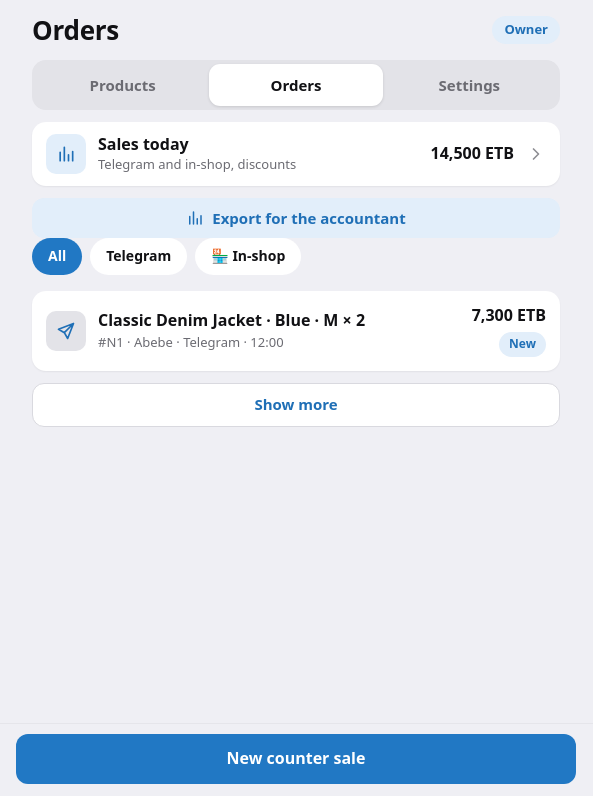
Test: Orders › loads the next page of orders
The width and height of the screenshot is (593, 796).
What coordinates should you click on to do the following:
click the button "Show more"
I would click on:
 (296, 405)
Its box is [32,383,560,427].
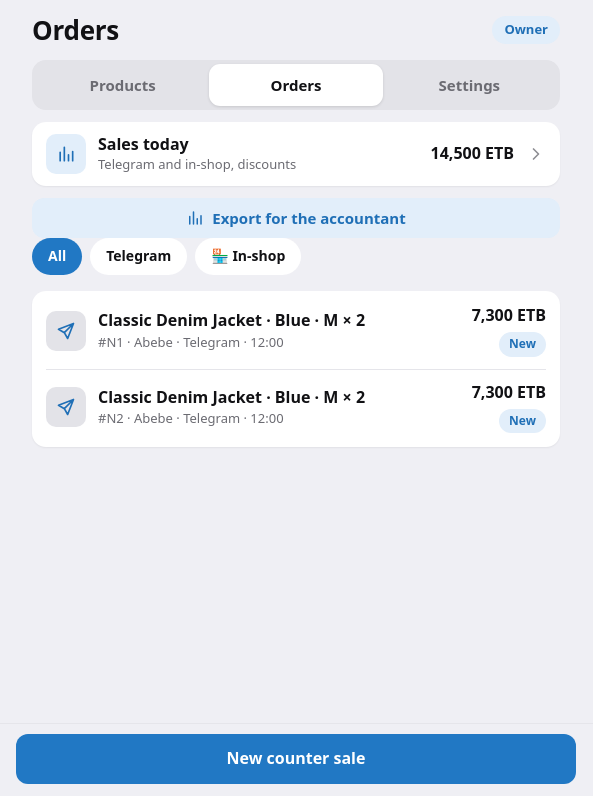
Check: the text "#N2 · Abebe · Telegram · 12:00" is shown, box [98,410,284,428]
Check: the button "Show more" is gone
